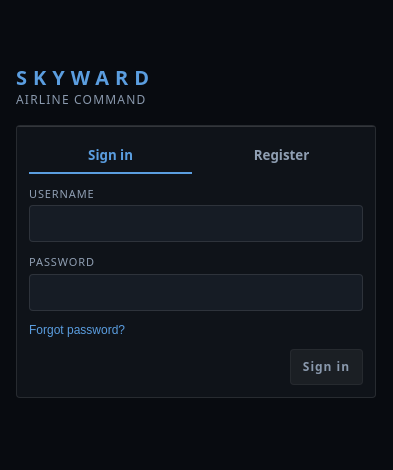
Test: halaman login — gerbang daftar › menolak password di bawah 6 karakter, sesuai aturan server
Click the tab "Register". click: {"x": 282, "y": 156}
box: [200,138,363,174]
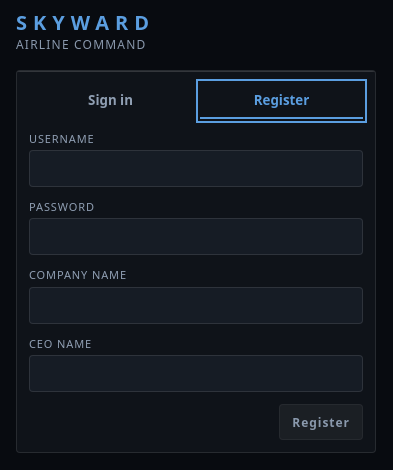
Type "pilot" into the field labelled "Username". click: {"x": 196, "y": 168}
box: [29,150,363,187]
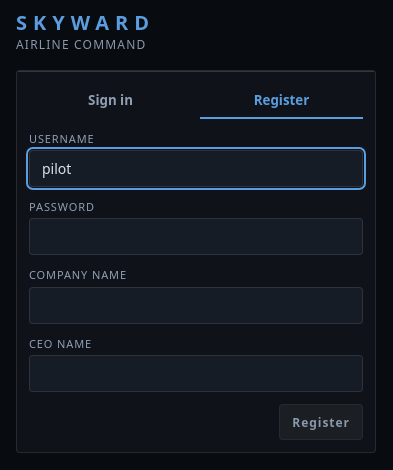
Type "12345" into the password field labelled "Password". click: {"x": 196, "y": 237}
box: [29,218,363,255]
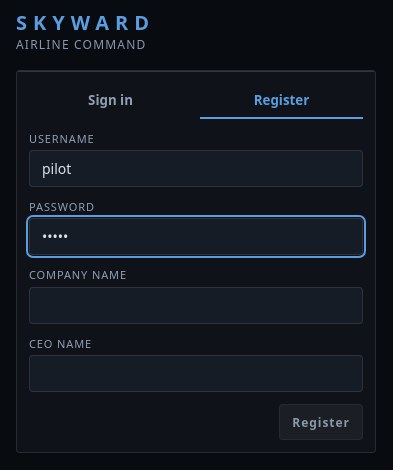
Type "Skyward Air" into the field labelled "Company name". click: {"x": 196, "y": 305}
box: [29,287,363,324]
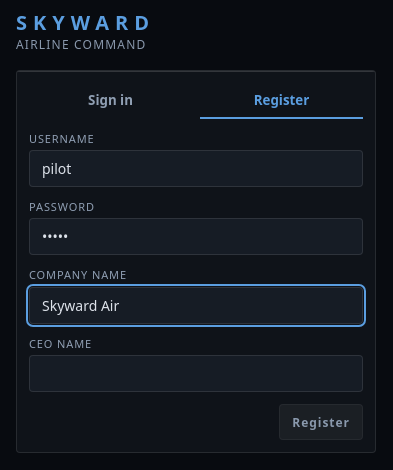
Type "Sachiel" into the field labelled "CEO name". click: {"x": 196, "y": 374}
box: [29,355,363,392]
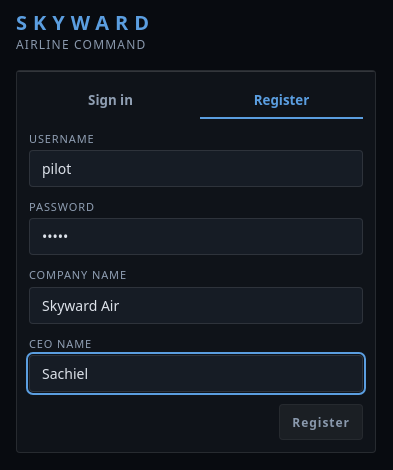
Expected: the button "Register" is disabled, [279,404,363,440]
Type "6" into the password field labelled "Password". click: {"x": 196, "y": 237}
box: [29,218,363,255]
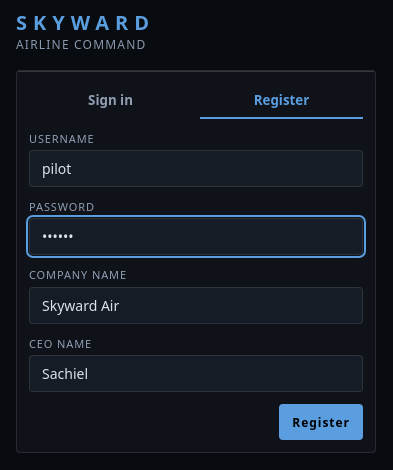
Expected: the button "Register" is enabled, [279,404,363,440]
